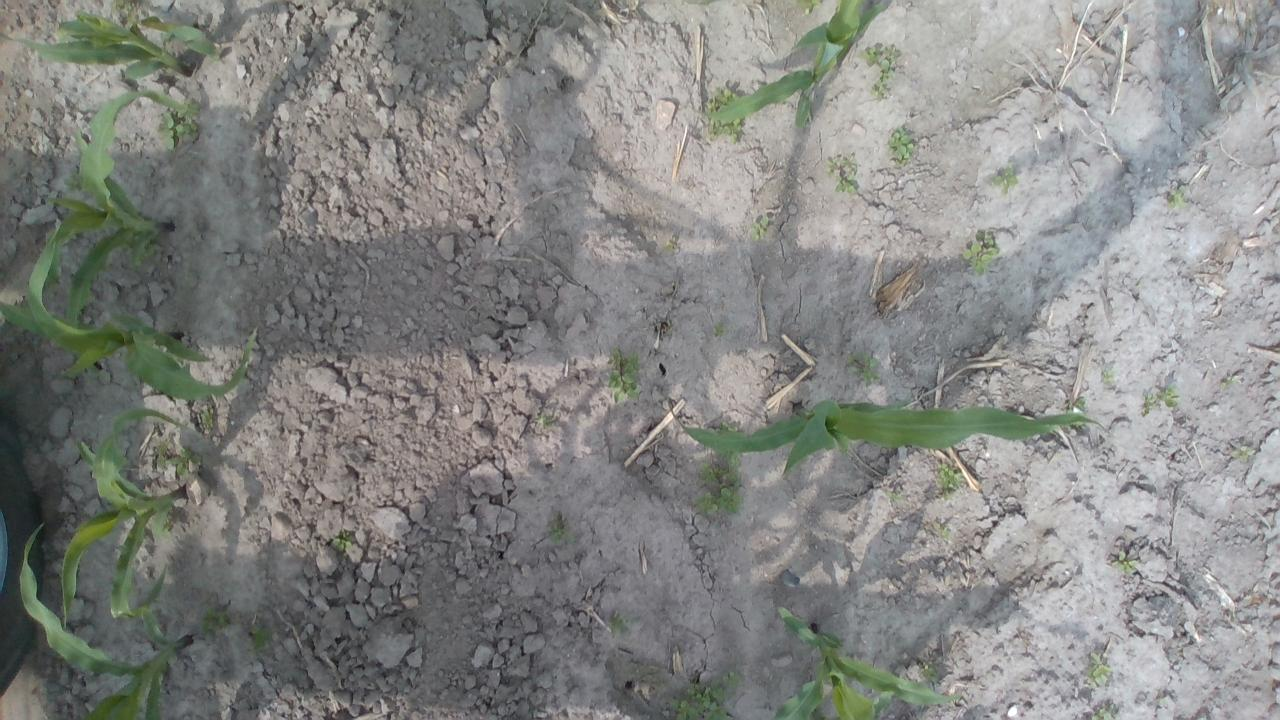Maize: (0, 232, 258, 404), (40, 85, 184, 380), (664, 398, 1114, 482), (16, 521, 187, 720), (58, 408, 190, 625), (690, 0, 889, 128), (766, 605, 964, 720), (0, 0, 218, 85)
Weeds: (692, 449, 744, 517), (668, 681, 732, 720), (703, 86, 746, 144), (860, 44, 901, 102), (157, 98, 200, 150), (604, 346, 640, 402), (962, 230, 999, 276), (824, 153, 858, 196), (846, 350, 884, 385), (888, 125, 916, 170), (1082, 650, 1112, 688), (934, 462, 962, 500), (991, 162, 1020, 196), (168, 446, 202, 474), (200, 606, 232, 634), (1109, 550, 1139, 576), (248, 624, 274, 653), (602, 612, 632, 636), (1066, 397, 1088, 427), (108, 0, 136, 23), (328, 528, 356, 550), (548, 524, 577, 544), (1090, 703, 1124, 720), (1158, 384, 1180, 409), (750, 215, 771, 241), (1166, 184, 1188, 208), (1138, 388, 1156, 415), (62, 170, 83, 192), (920, 659, 939, 683), (154, 436, 168, 468), (530, 412, 556, 428), (1230, 444, 1256, 460), (141, 238, 157, 263), (1098, 365, 1116, 386), (931, 523, 953, 540), (198, 406, 214, 429), (722, 670, 742, 687), (882, 488, 904, 502), (714, 421, 739, 432), (46, 280, 64, 295), (1220, 373, 1238, 387), (796, 0, 821, 10), (161, 522, 172, 538), (712, 322, 724, 336), (664, 241, 676, 250), (209, 55, 221, 62), (71, 233, 79, 241)
